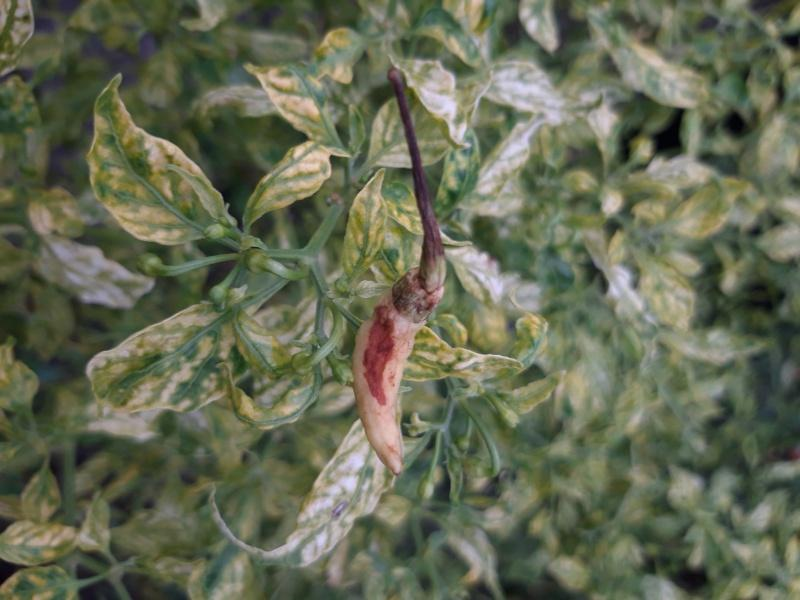antraknosa: (358, 282, 420, 476)
